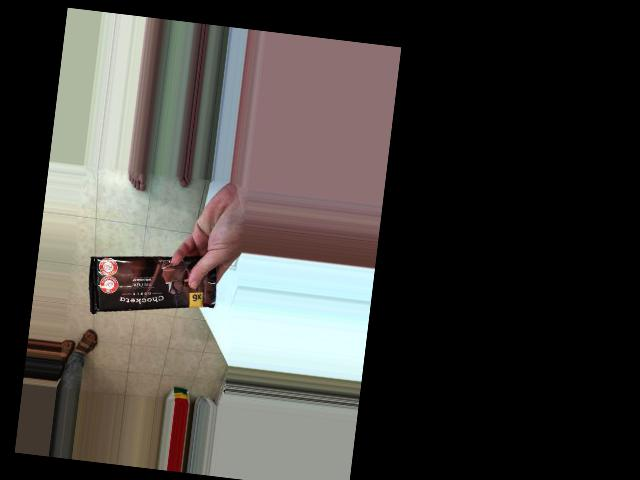chocolate: (84, 240, 224, 328)
